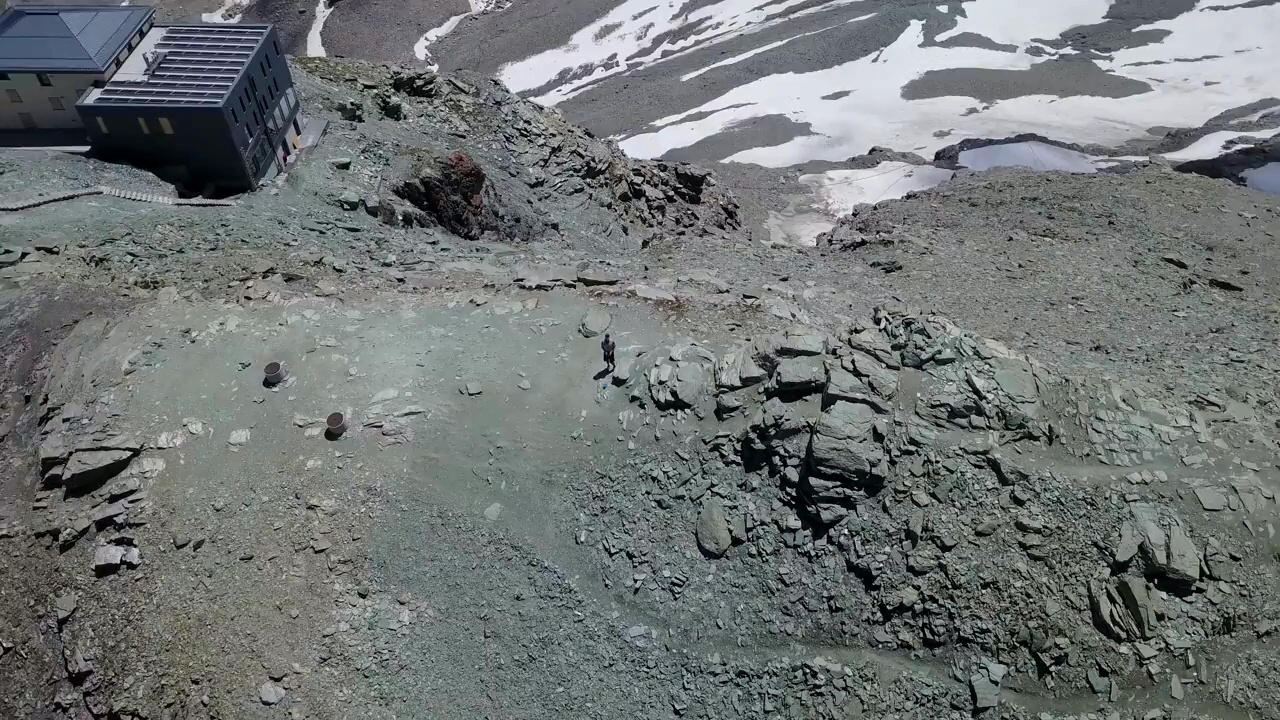insan: (599, 330, 617, 372)
